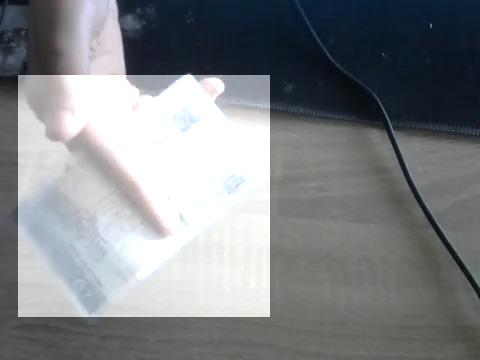20leva: (18, 75, 270, 317)
